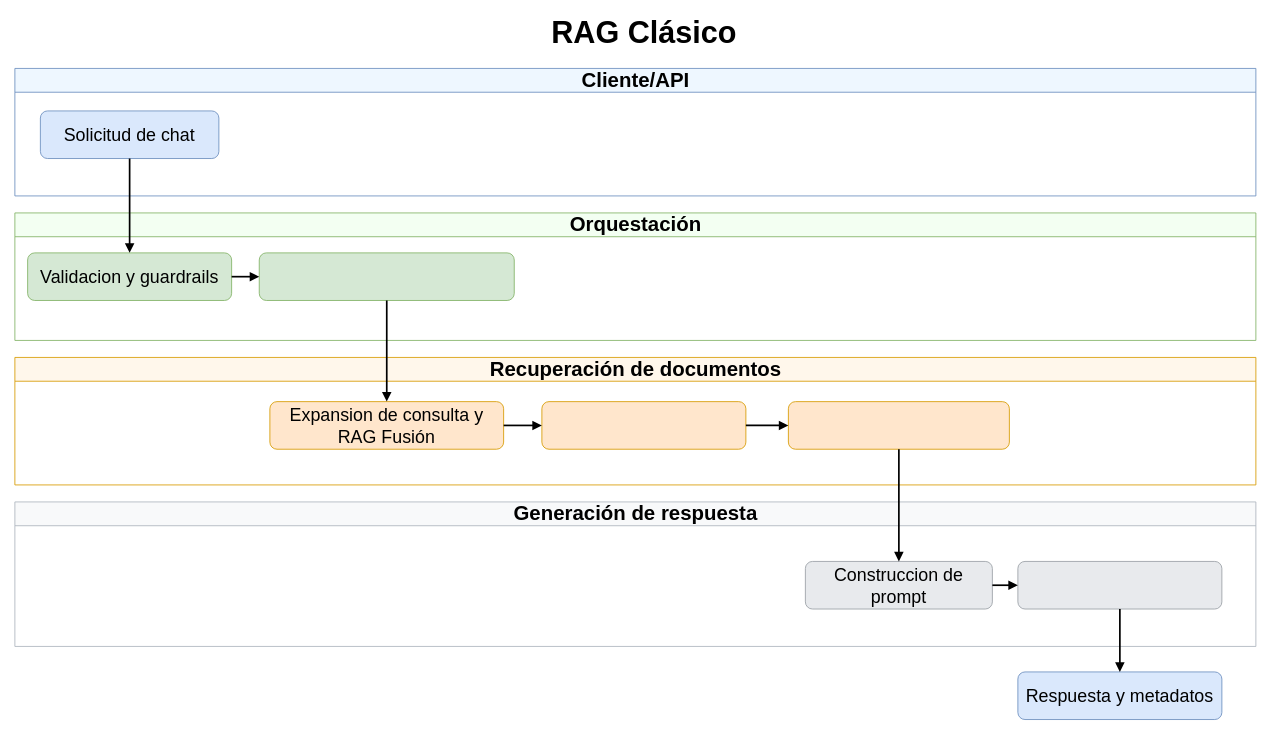
The diagram is 1271 pixels wide and 734 high, and some of its shapes have lost their labels. Here are the shapes that lost their labels. From the top down, the centre of each, then its label:
At (x=386, y=276): "Selección de estrategia clásica".
At (x=643, y=425): "Busqueda híbrida en Azure AI Search".
At (x=898, y=425): "Fusión de resultados y selección de chunks".
At (x=1119, y=585): "LLM final (Azure OpenAI)".
